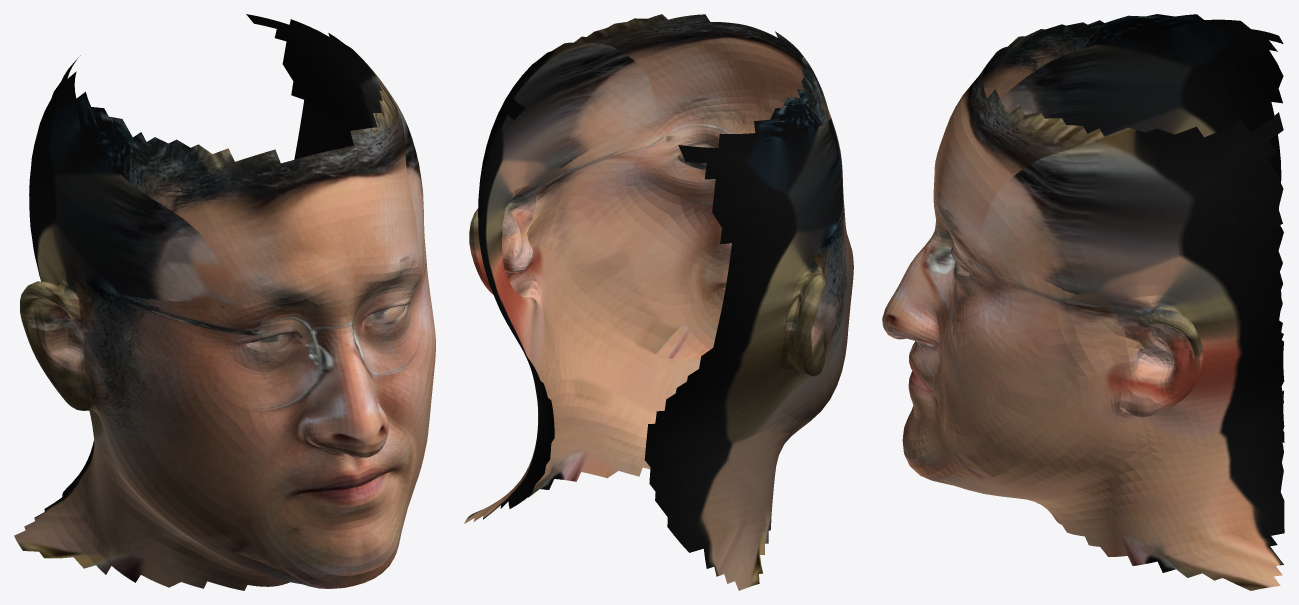
Rendered from baseline.glb.
3 renders of one model, left to right at view 1: azimuth 30°, elevation 25°; view 2: azimuth 150°, elevation 25°; view 3: azimuth 270°, elevation 25°, orthographic. The views are drawn at different scales.
Visible parts, largest first — view 1: geometry_0; view 2: geometry_0; view 3: geometry_0.
Part boxes in pixels (x1,y1,x2,y2): geometry_0: (14, 14, 435, 590); geometry_0: (464, 14, 853, 590); geometry_0: (882, 14, 1284, 590).
Size of the model in its own units: 0.1828 by 0.2199 by 0.1788.
1 material, 1 textured.
